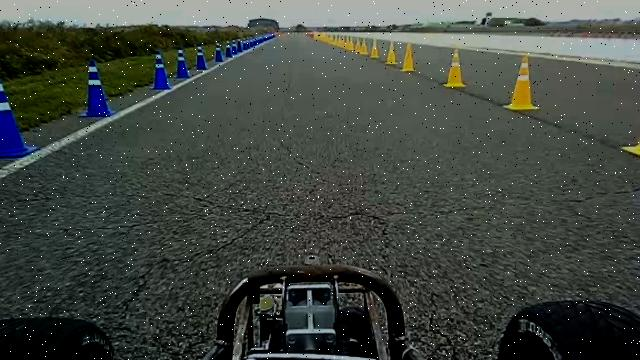blue cone: (0, 72, 38, 159), (78, 59, 114, 117), (150, 49, 170, 90), (174, 45, 190, 79), (195, 45, 207, 70), (214, 41, 223, 62), (230, 39, 238, 55), (225, 40, 232, 57)
yellow cone: (503, 55, 540, 111), (442, 48, 467, 88), (400, 42, 416, 72), (384, 41, 398, 64), (370, 38, 380, 58), (359, 38, 368, 55), (354, 39, 362, 53)
